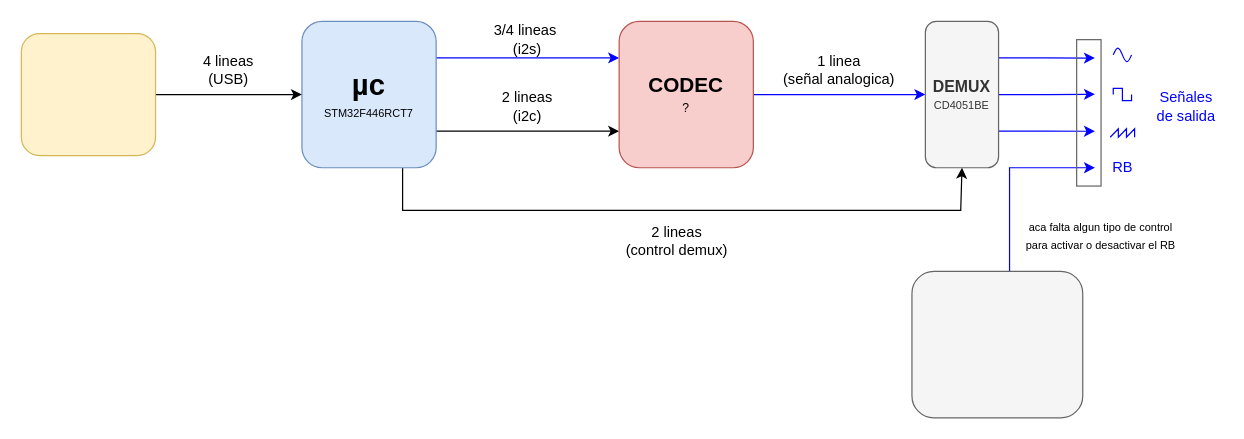
The diagram is 1244 pixels wide and 439 high, and some of its shapes have lost their labels. The shapes that lost their labels are listed below. From the top down, each one's centre as x and y in pixels, then its label:
(88,94): PC
(997,344): MODULO GENERADOR RUIDO BLANCO
